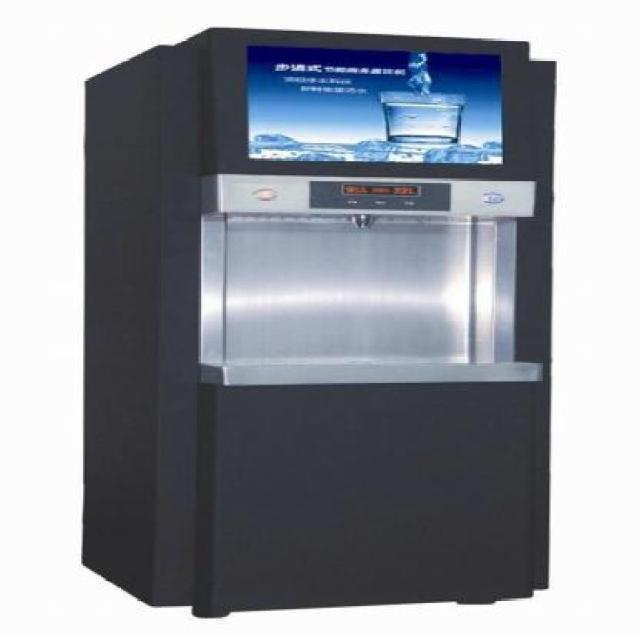cooler: (63, 28, 568, 624)
